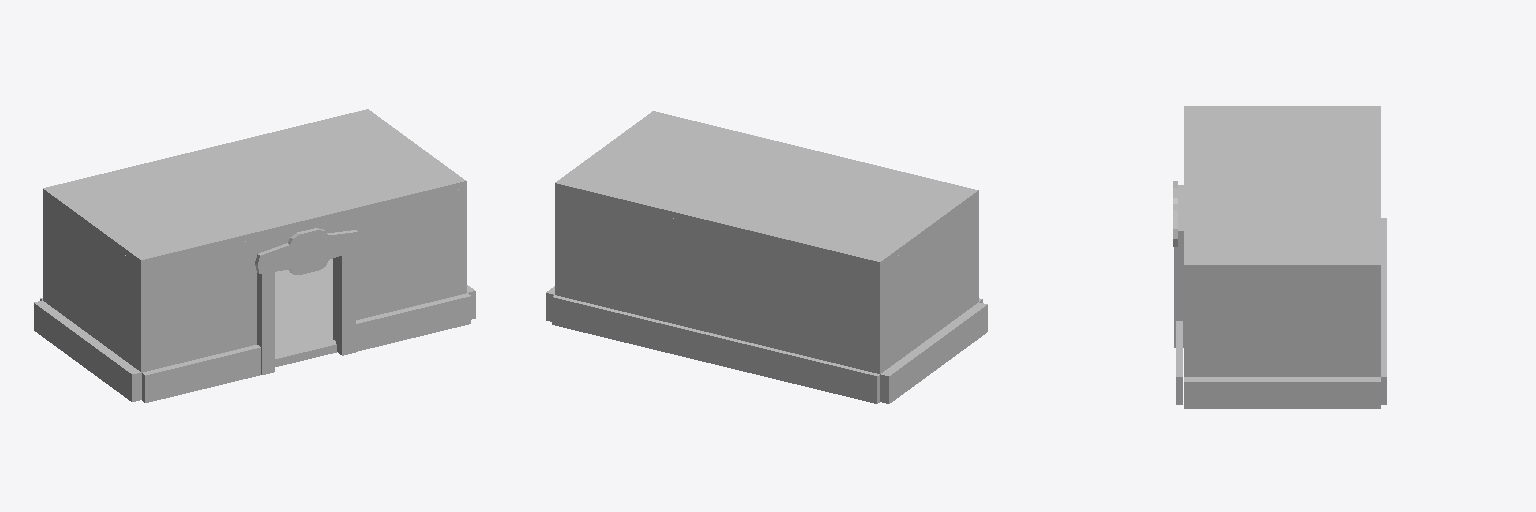
The model's file is Centro.obj.
3 renders of one model, left to right at view 1: azimuth 30°, elevation 25°; view 2: azimuth 150°, elevation 25°; view 3: azimuth 270°, elevation 25°, orthographic.
Parts seen in each view (by area): view 1: Cube.000_Cube.030, Box001.001, Box003.002_Box003.003, Cube.029, Box003.003_Box003.008, Box002.007, Box001.002_Box001.003, Box002.003_Box002.008, Cube.002, Box002.005; view 2: Box002.005, Cube.000_Cube.030, Box002.006, Box003.002_Box003.003, Box003.003_Box003.008, Box001.001; view 3: Cube.000_Cube.030, Box003.000_Box003.006, Box003.007, Box001.001, Box002.005, Box001.002_Box001.003, Box002.006, Box002.003_Box002.008.
Boxes of the visible parts, <box> form: Cube.000_Cube.030: <box>43,109,466,266</box>; Box001.001: <box>135,188,466,399</box>; Box003.002_Box003.003: <box>49,200,134,367</box>; Cube.029: <box>275,259,336,366</box>; Box003.003_Box003.008: <box>34,300,140,401</box>; Box002.007: <box>142,345,260,402</box>; Box001.002_Box001.003: <box>257,251,355,374</box>; Box002.003_Box002.008: <box>356,293,470,351</box>; Cube.002: <box>255,228,360,274</box>; Box002.005: <box>43,196,48,304</box>; Box002.005: <box>555,190,885,373</box>; Cube.000_Cube.030: <box>555,111,978,268</box>; Box002.006: <box>552,295,879,403</box>; Box003.002_Box003.003: <box>886,201,972,369</box>; Box003.003_Box003.008: <box>880,302,987,403</box>; Box001.001: <box>973,197,978,305</box>; Cube.000_Cube.030: <box>1184,106,1380,272</box>; Box003.000_Box003.006: <box>1196,273,1368,376</box>; Box003.007: <box>1184,377,1380,408</box>; Box001.001: <box>1184,272,1195,376</box>; Box002.005: <box>1369,272,1380,376</box>; Box001.002_Box001.003: <box>1174,185,1183,347</box>; Box002.006: <box>1381,218,1386,404</box>; Box002.003_Box002.008: <box>1176,321,1182,404</box>.
Size of the model in its own units: 400 by 157 by 215.